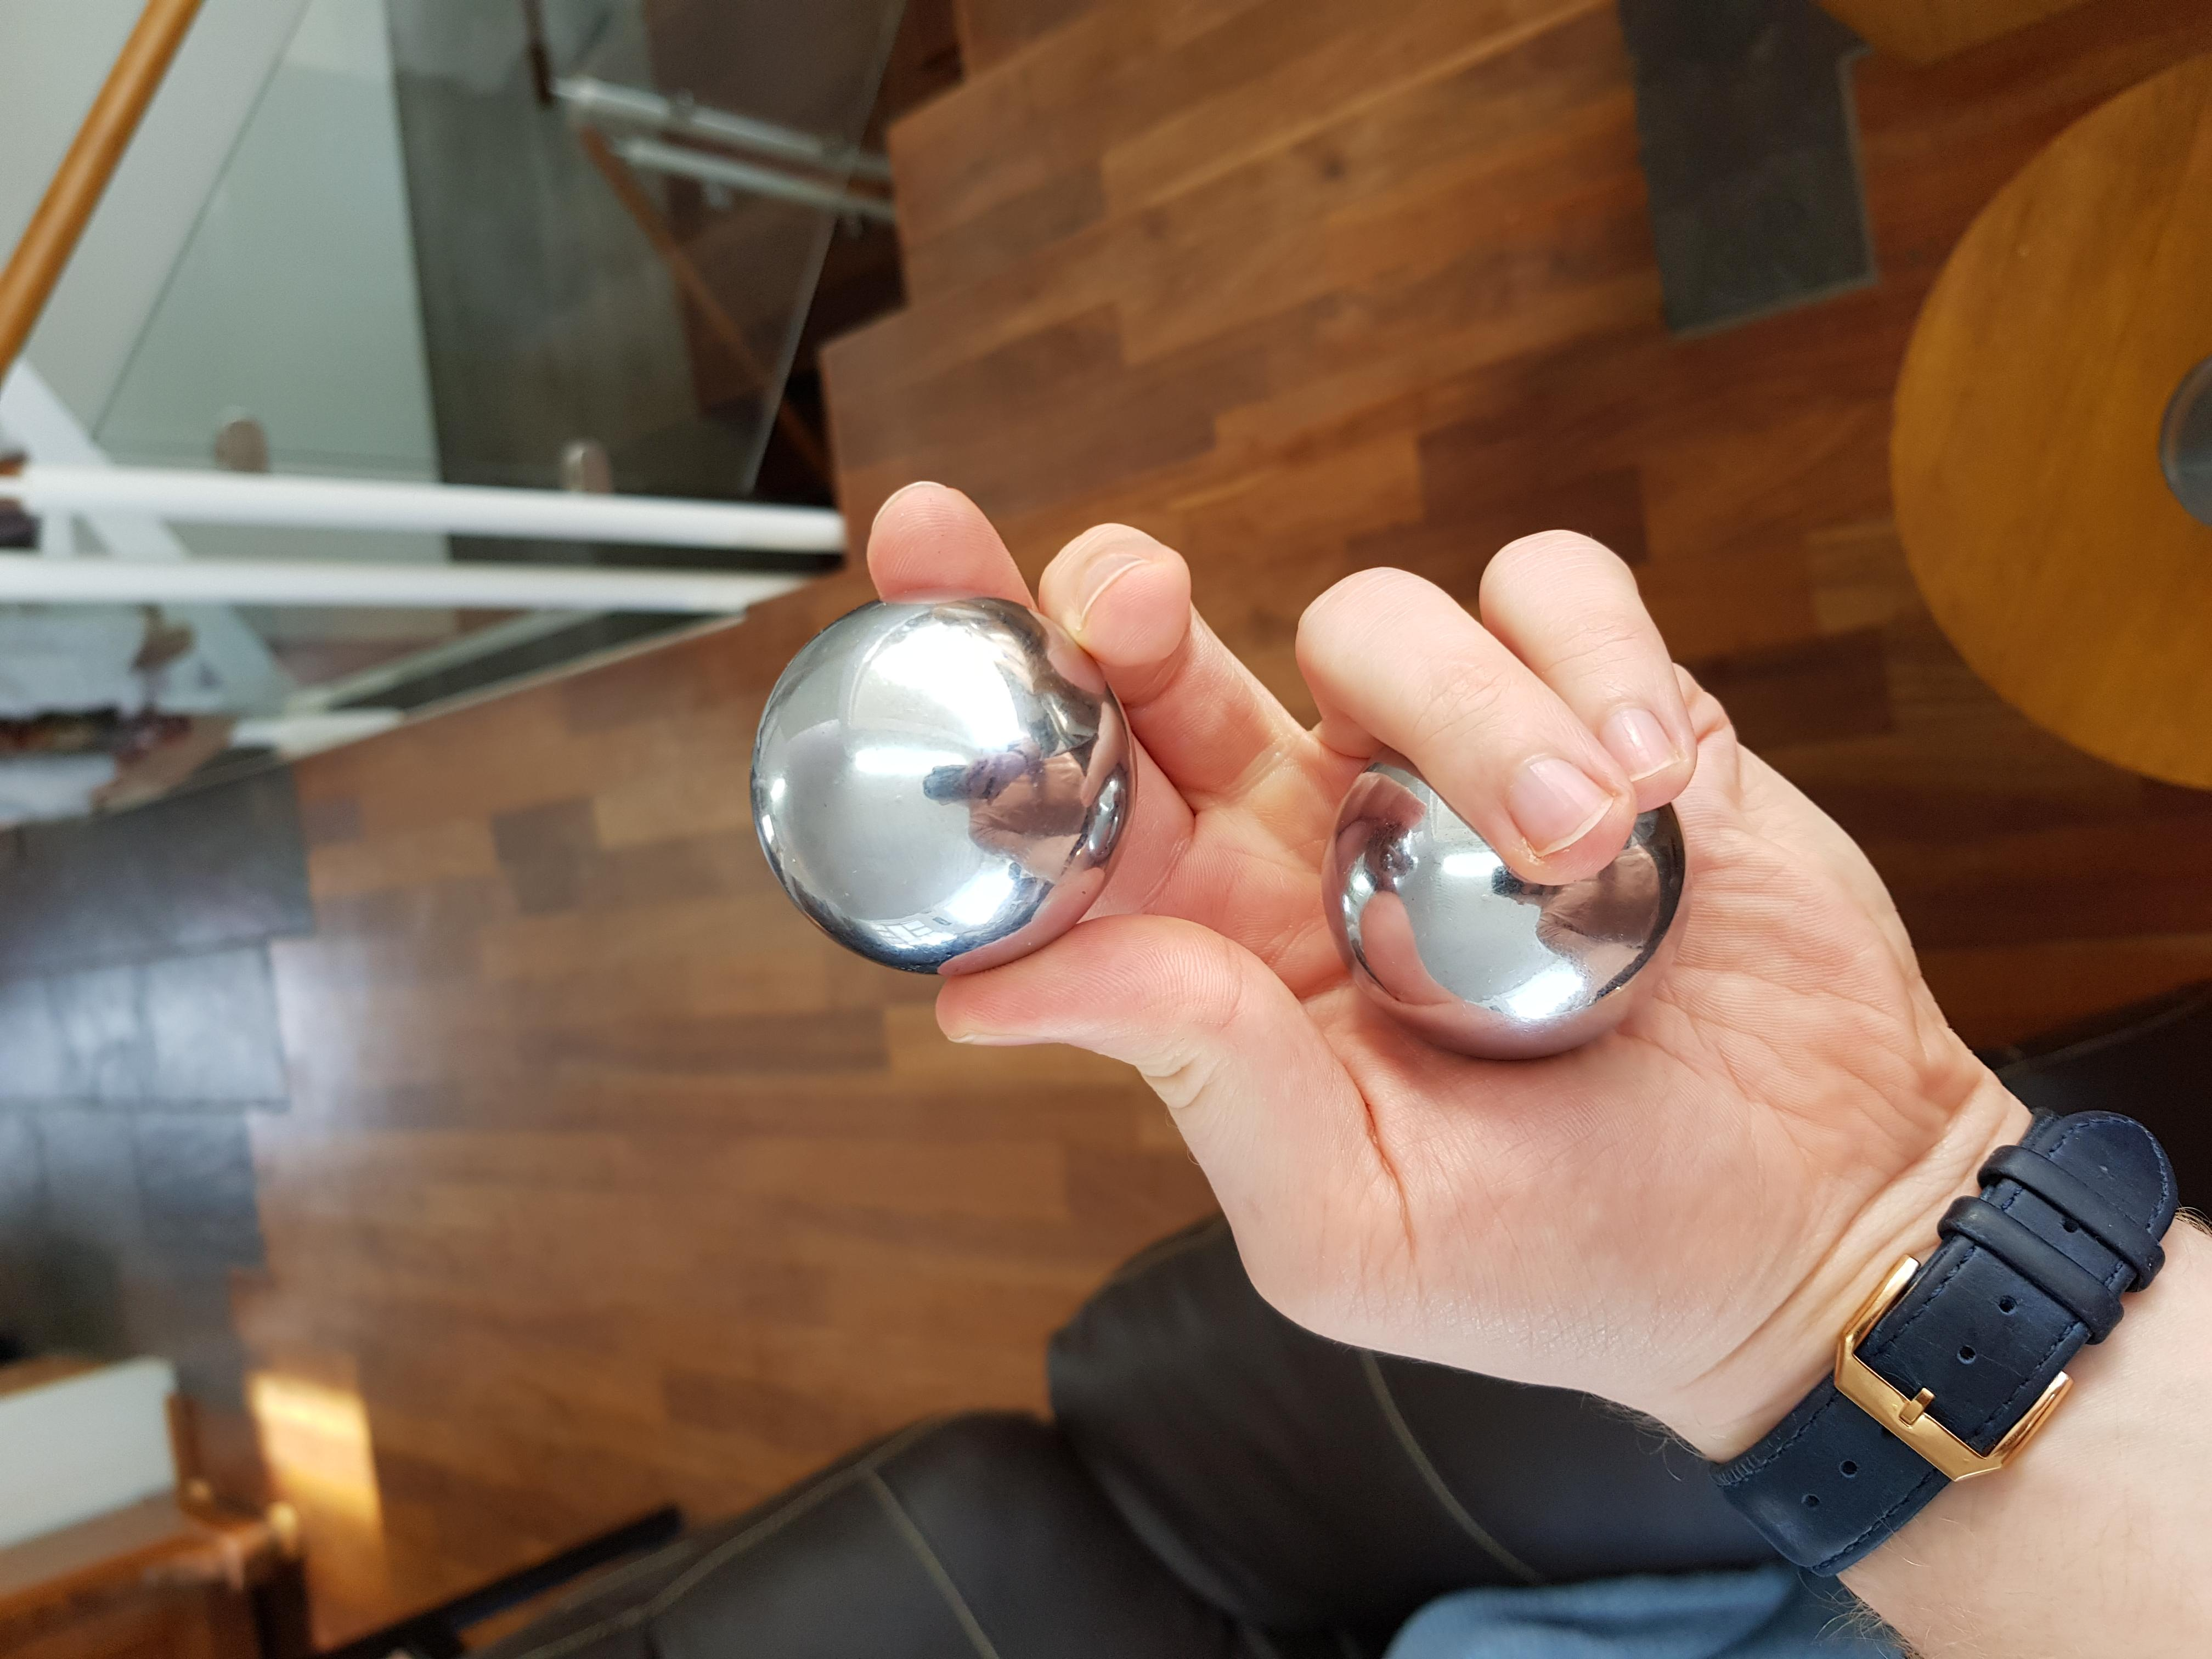sphere: (730, 596, 1127, 995), (1334, 714, 1677, 1068)
